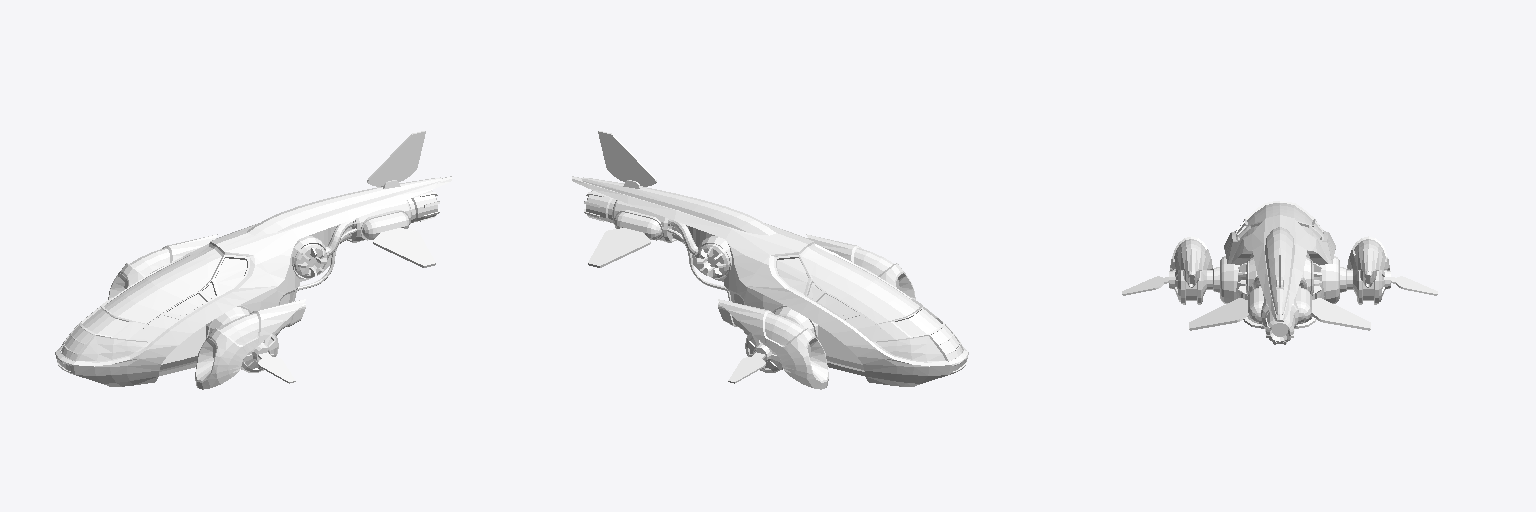
File: ship.obj
3 renders of one model, left to right at view 1: azimuth 30°, elevation 25°; view 2: azimuth 150°, elevation 25°; view 3: azimuth 270°, elevation 25°, orthographic.
Visible parts, largest first — view 1: Ship_Type_3_Sphere.005; view 2: Ship_Type_3_Sphere.005; view 3: Ship_Type_3_Sphere.005.
Boxes of the visible parts, <box> form: Ship_Type_3_Sphere.005: <box>55,131,451,389</box>; Ship_Type_3_Sphere.005: <box>572,131,968,389</box>; Ship_Type_3_Sphere.005: <box>1122,201,1437,344</box>.
Bounding box in the file's own units: 0.8613 × 0.3519 × 0.5999.